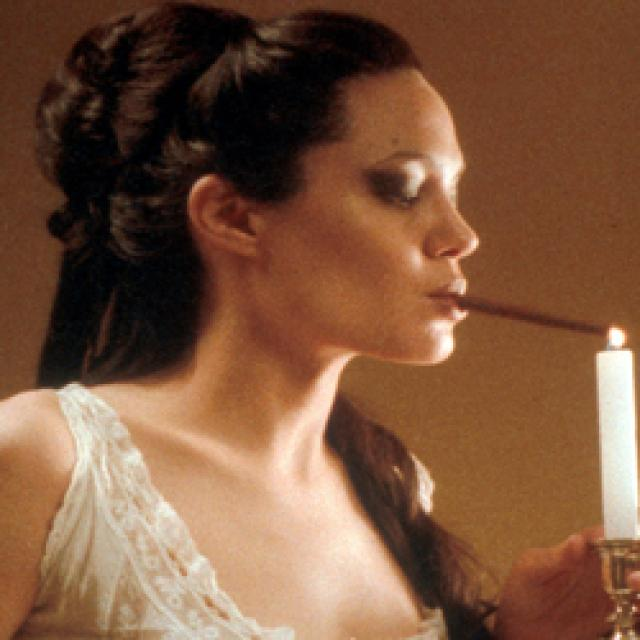Smooking: (461, 284, 635, 352)
